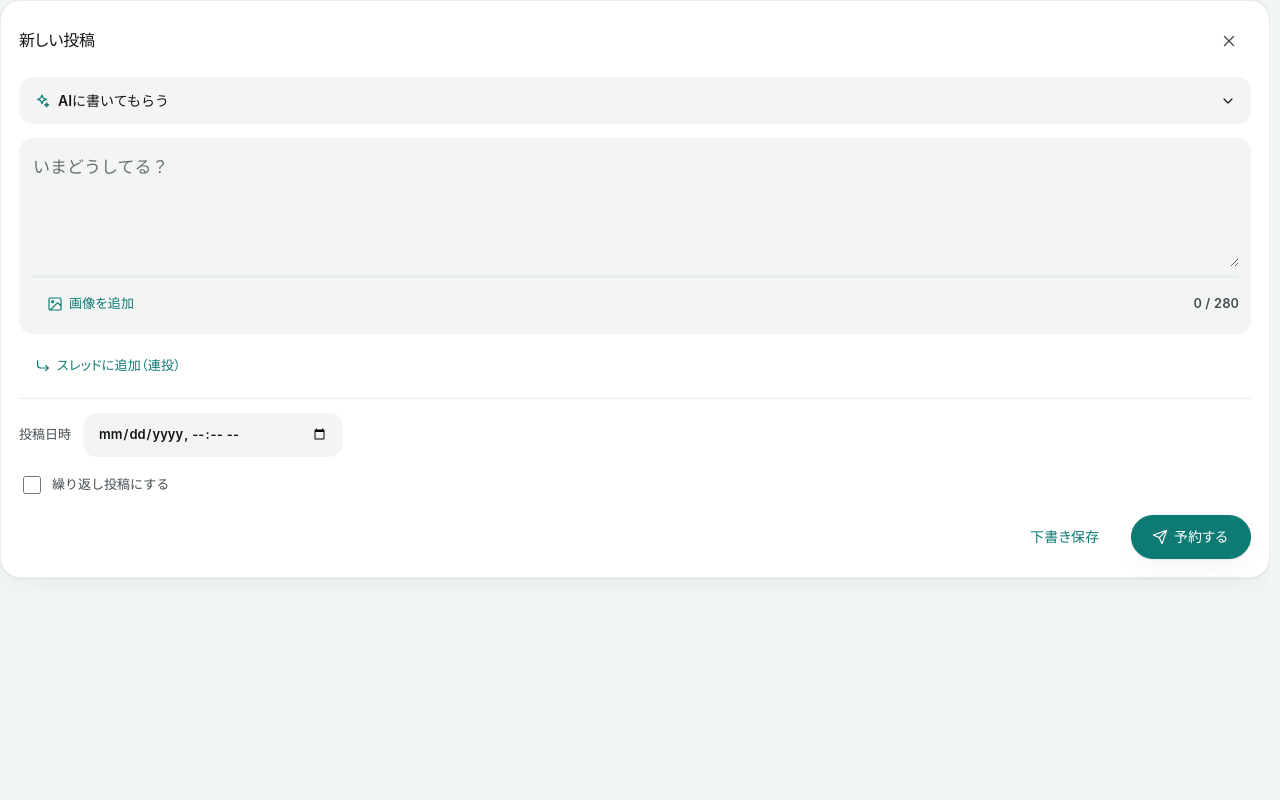
Scenario: PostComposer: 毎日ちがう本文をAIにまかせる › AIにまかせると、本文欄とAI下書きが消えてお題の欄になる
Click the checkbox labelled "繰り返し投稿にする".
click(32, 485)  # box [23,476,41,494]
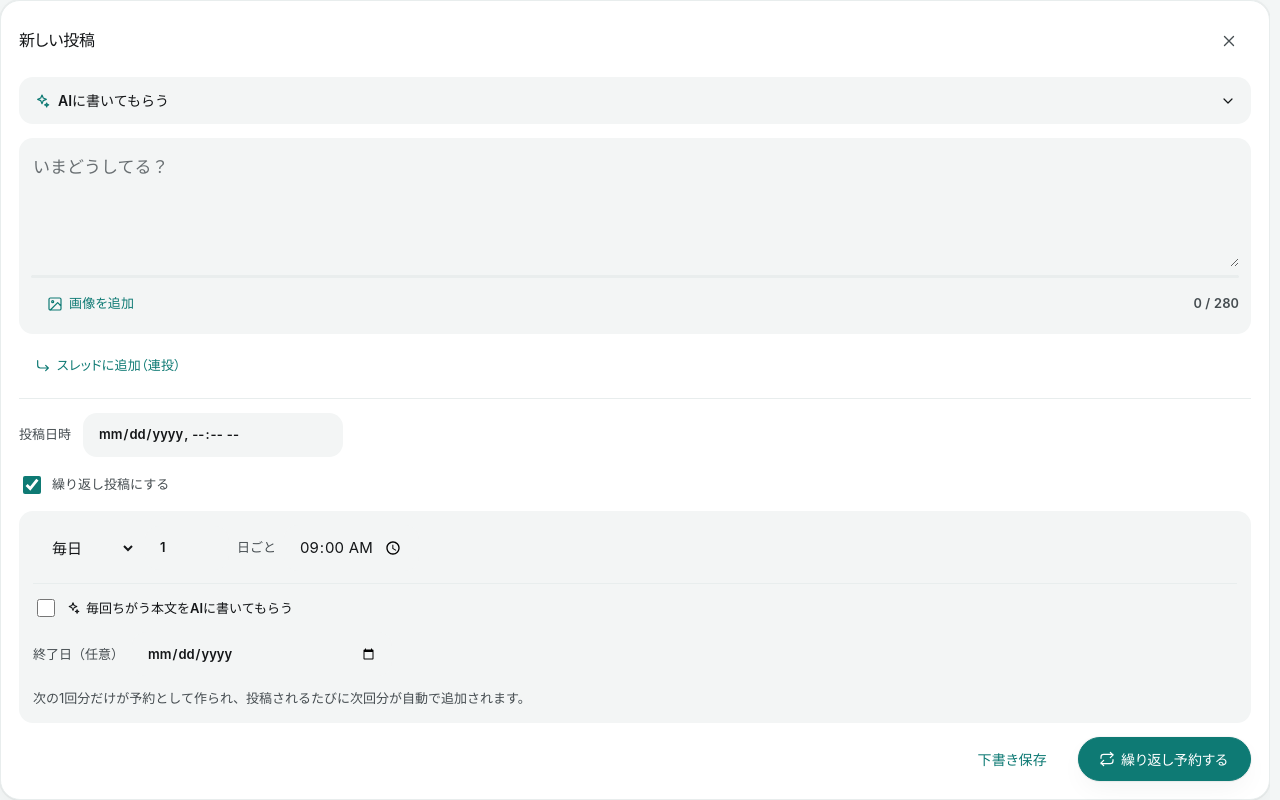
Expected: the text box with placeholder "いまどうしてる？" is shown, [31,150,1239,267]
Click the checkbox labelled "毎回ちがう本文をAIに書いてもらう".
click(46, 608)  # box [37,599,55,617]
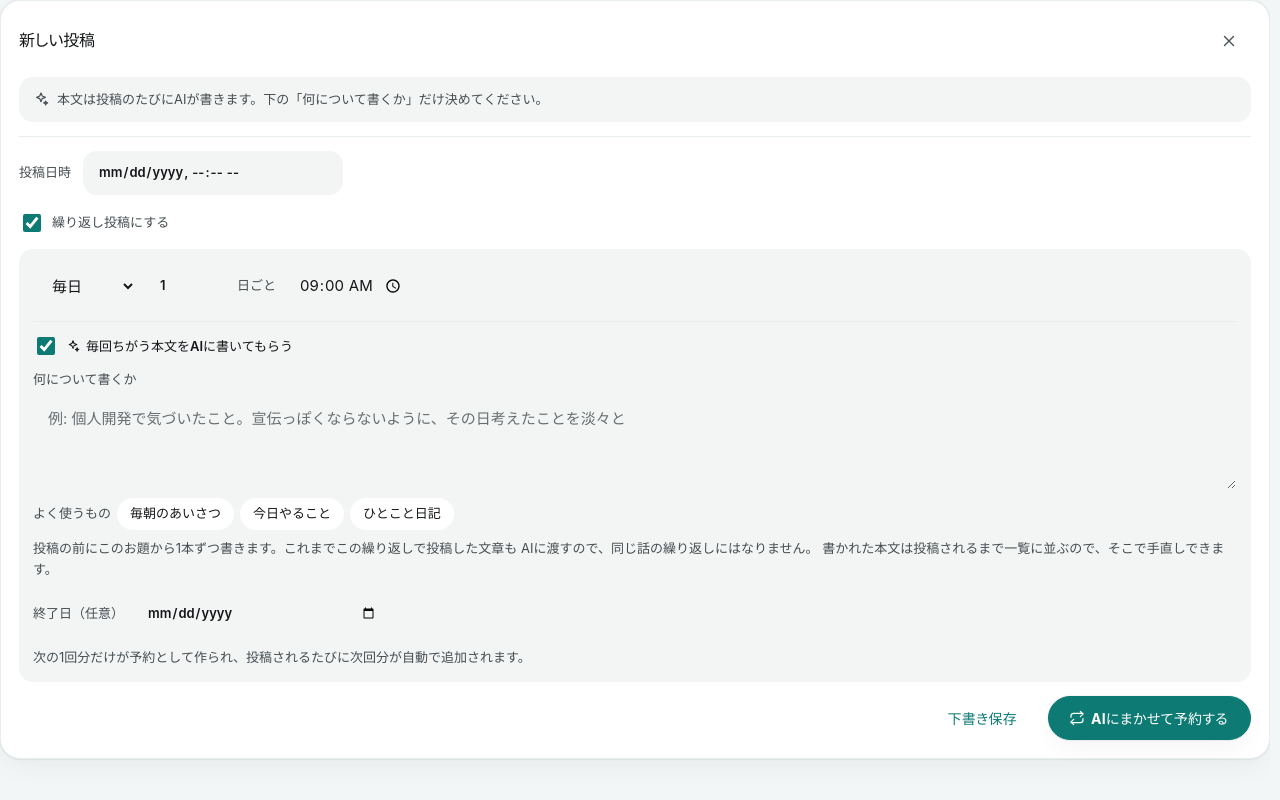
Expected: the text box with placeholder "いまどうしてる？" is gone
Expected: the text "何について書くか" is shown, [33,371,137,387]
Expected: the text "本文は投稿のたびにAIが書きます。下の「何について書くか」だけ決めてください。" is shown, [19,77,1251,122]
